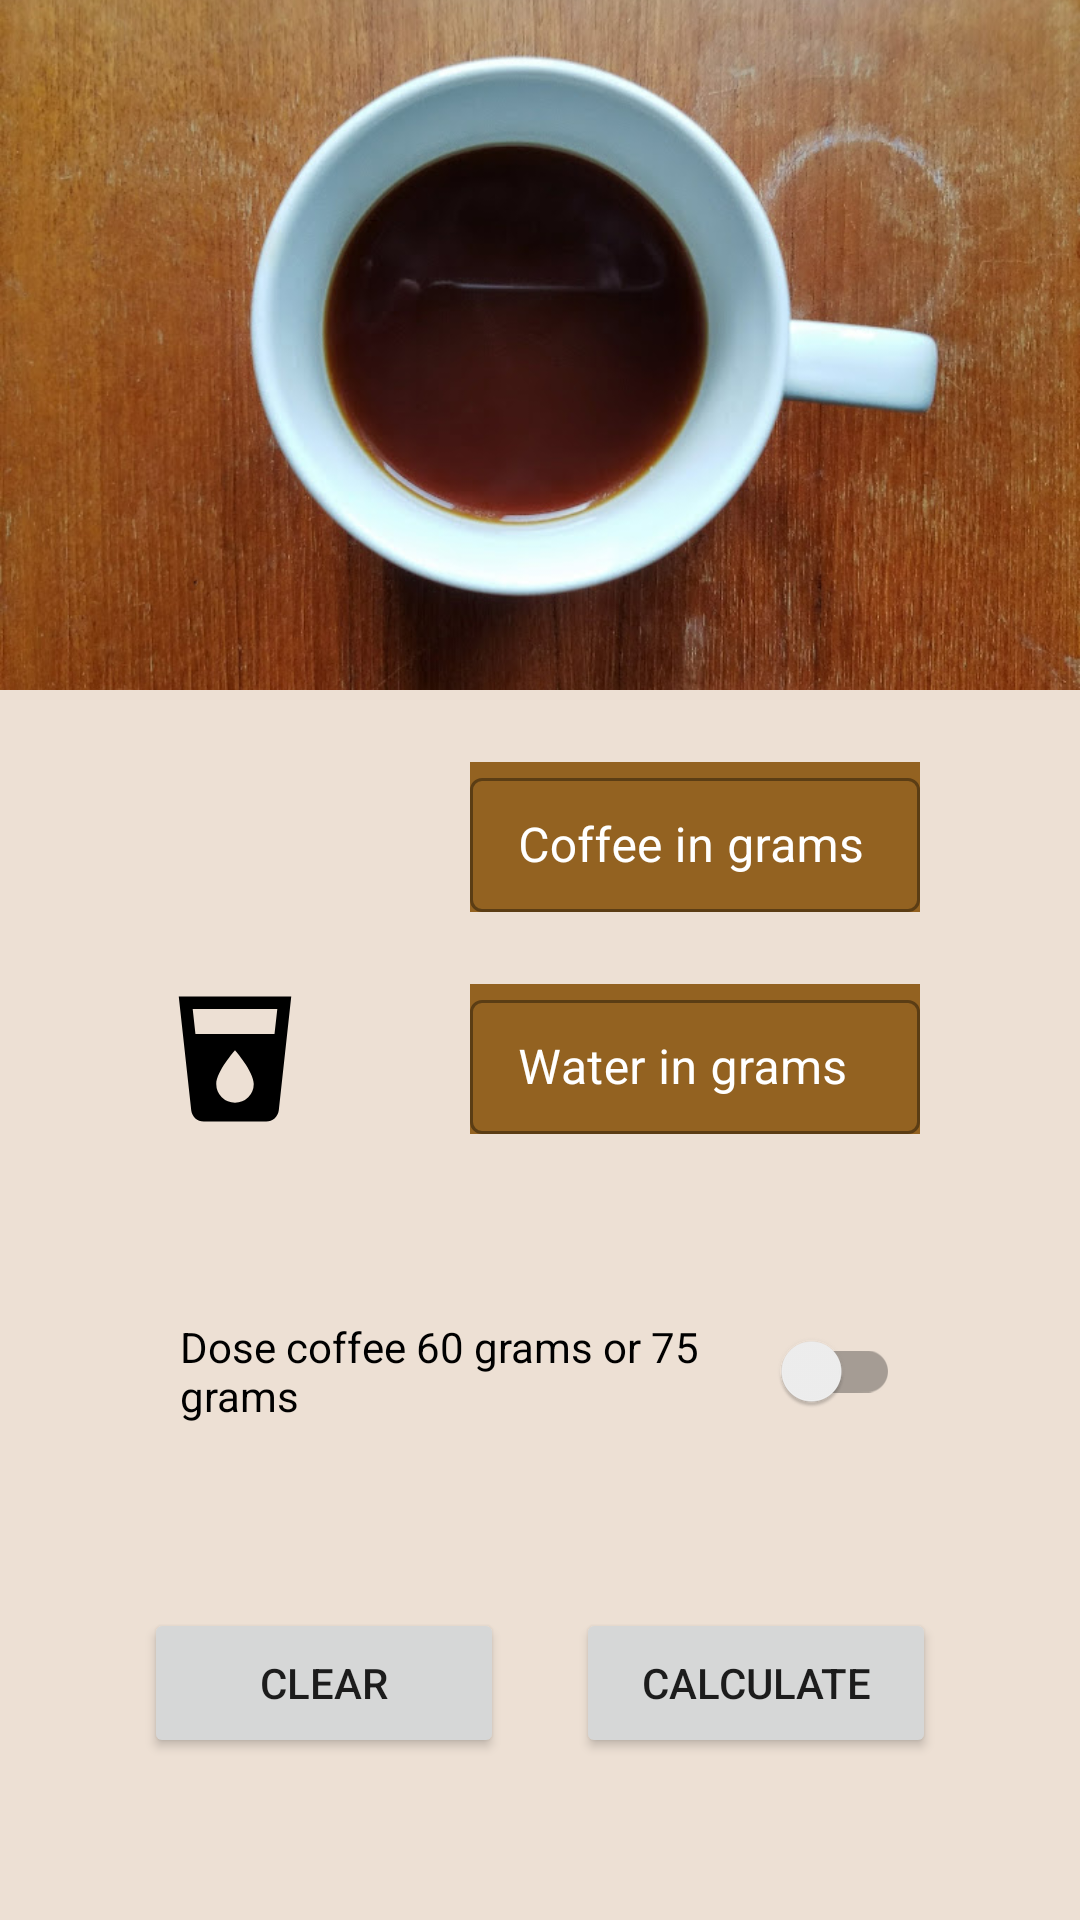

Locate icon controls on the screen. Image size 1080×1920, boxes as (left=x1, top=y1, right=x2, bottom=y2).
cup water: (left=178, top=996, right=292, bottom=1122)
